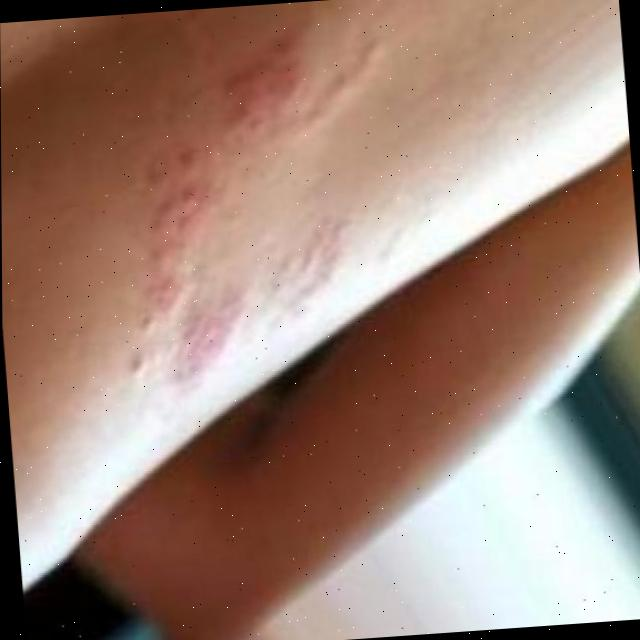Shingles: (117, 42, 359, 392)
